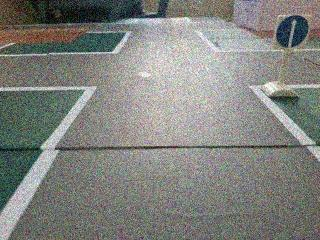straight: (274, 13, 310, 51)
